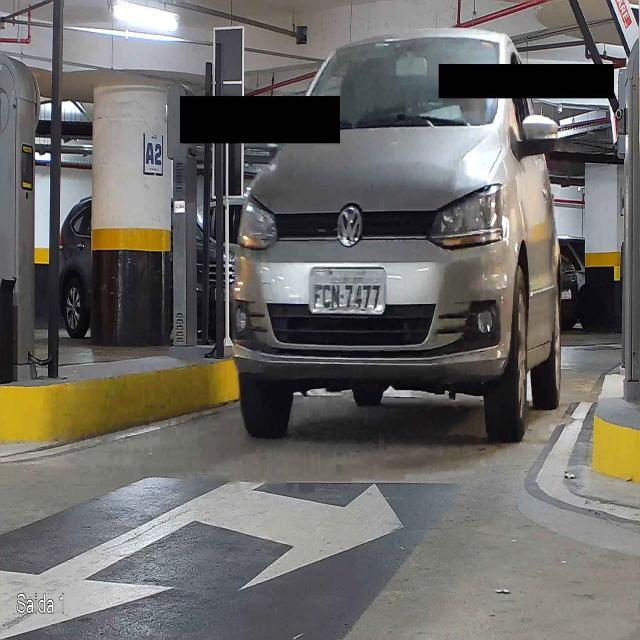old_plate: (306, 263, 389, 317)
